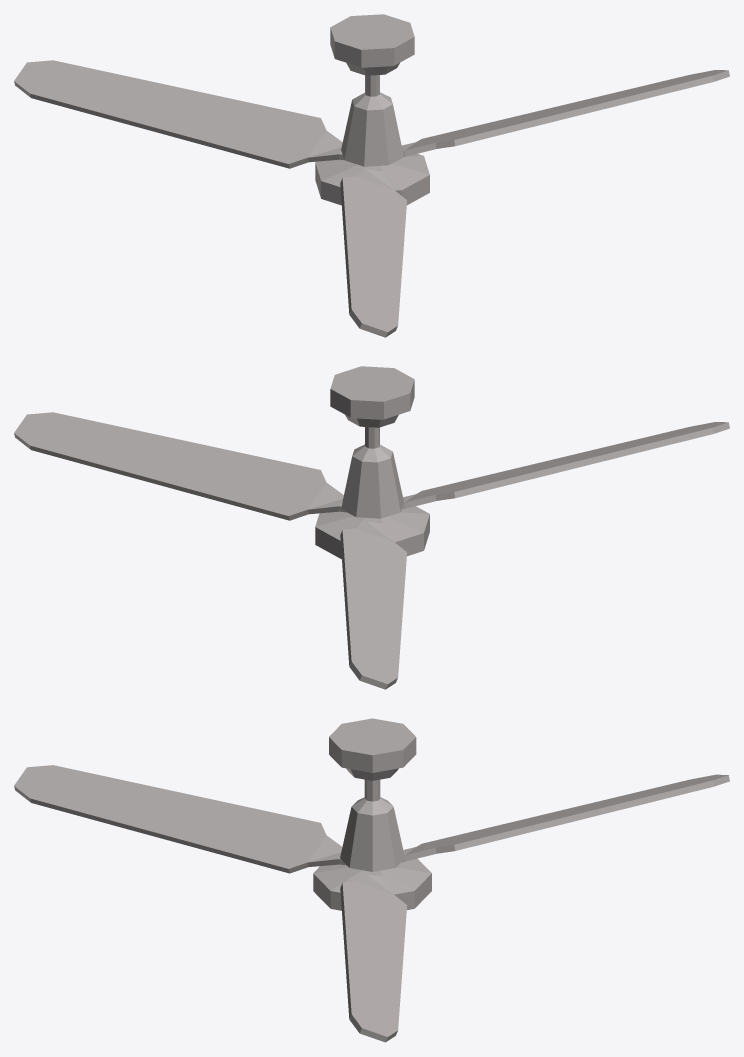
Rendered from SK_Prop_CeilingFan_02.obj.
3 renders of one model, top to bottom at view 1: azimuth 30°, elevation 25°; view 2: azimuth 150°, elevation 25°; view 3: azimuth 270°, elevation 25°, orthographic.
Visible parts, largest first — view 1: SK_Prop_CeilingFan_02_M_PolygonOffice_01_A; view 2: SK_Prop_CeilingFan_02_M_PolygonOffice_01_A; view 3: SK_Prop_CeilingFan_02_M_PolygonOffice_01_A.
Boxes of the visible parts, x1,y1,x2,y2 form: SK_Prop_CeilingFan_02_M_PolygonOffice_01_A: [14, 14, 729, 337]; SK_Prop_CeilingFan_02_M_PolygonOffice_01_A: [14, 366, 729, 689]; SK_Prop_CeilingFan_02_M_PolygonOffice_01_A: [14, 718, 729, 1042].
Size of the model in its own units: 1.8 by 0.5265 by 2.08.
1 material, 1 textured.
